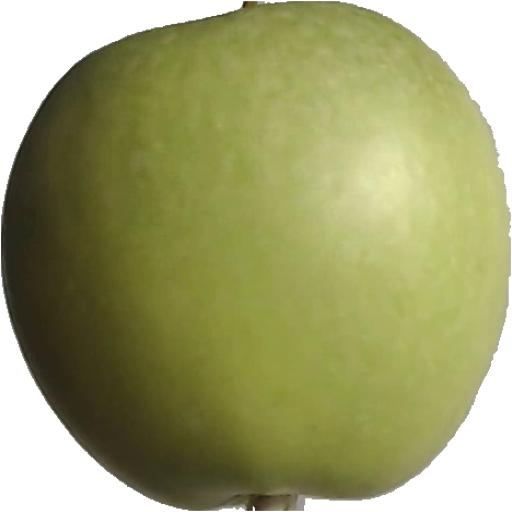apple-unripe: (0, 0, 512, 495)
